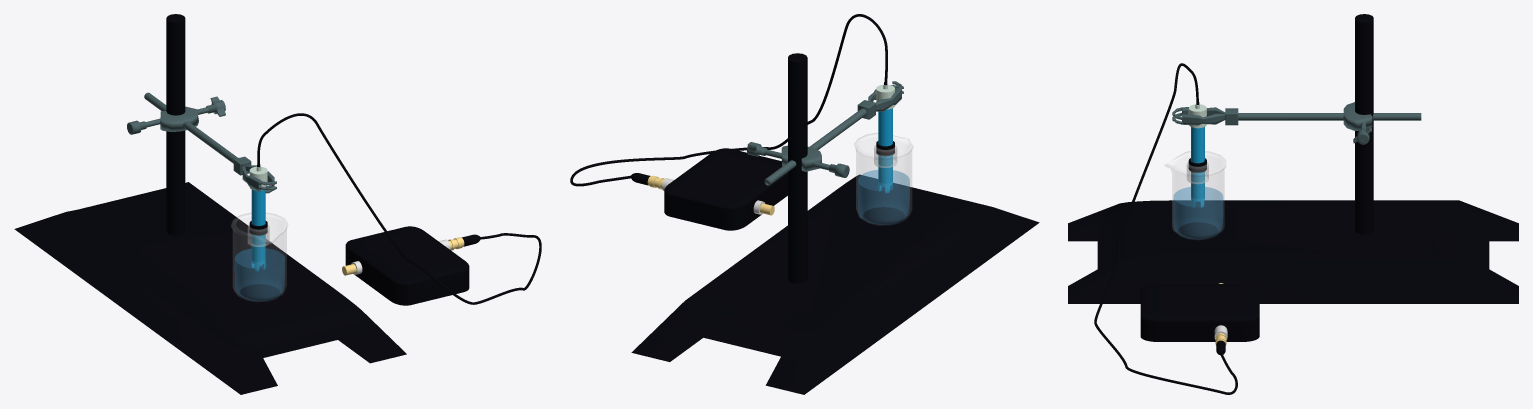
The model's file is Retort stand.glb.
The picture shows the model from 3 angles, left to right: view 1: azimuth 30°, elevation 25°; view 2: azimuth 150°, elevation 25°; view 3: azimuth 270°, elevation 25°; orthographic projection. The views are drawn at different scales.
Visible parts, largest first — view 1: Cube.003, Cube.001, Куб, Цилиндр.012, КриваяБезье, Cylinder.009, Цилиндр.001; view 2: Cube.003, Cube.001, Куб, Цилиндр.012, КриваяБезье, Cylinder.009, Цилиндр.001, Цилиндр.003; view 3: Cube.003, Куб, Cube.001, Цилиндр.012, КриваяБезье, Cylinder.009, Цилиндр.001, Цилиндр.003.
Part boxes in pixels (x1,y1,x2,y2): Cube.003: (14,182,406,394); Cube.001: (127,14,276,235); Куб: (345,226,469,305); Цилиндр.012: (235,248,284,300); КриваяБезье: (257,113,541,304); Cylinder.009: (231,213,287,296); Цилиндр.001: (251,189,265,271); Cube.003: (631,174,1039,394); Cube.001: (747,53,903,283); Куб: (664,148,787,230); Цилиндр.012: (858,170,909,224); КриваяБезье: (570,14,887,186); Cylinder.009: (854,133,913,219); Цилиндр.001: (878,108,892,193); Цилиндр.003: (874,145,897,167); Cube.003: (1068,200,1518,303); Куб: (1140,284,1259,341); Cube.001: (1172,14,1421,234); Цилиндр.012: (1173,187,1222,239); КриваяБезье: (1094,63,1237,394); Cylinder.009: (1164,151,1225,232); Цилиндр.001: (1191,127,1204,207); Цилиндр.003: (1186,162,1208,184).
Size of the model in its own units: 9.86 by 6.26 by 10.39.
